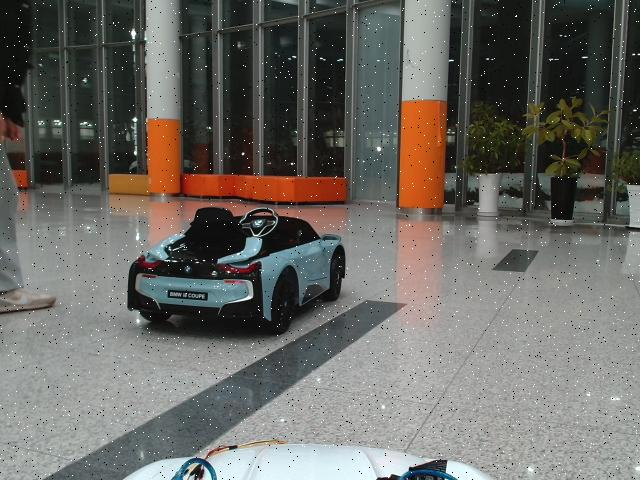car: (128, 207, 347, 337)
